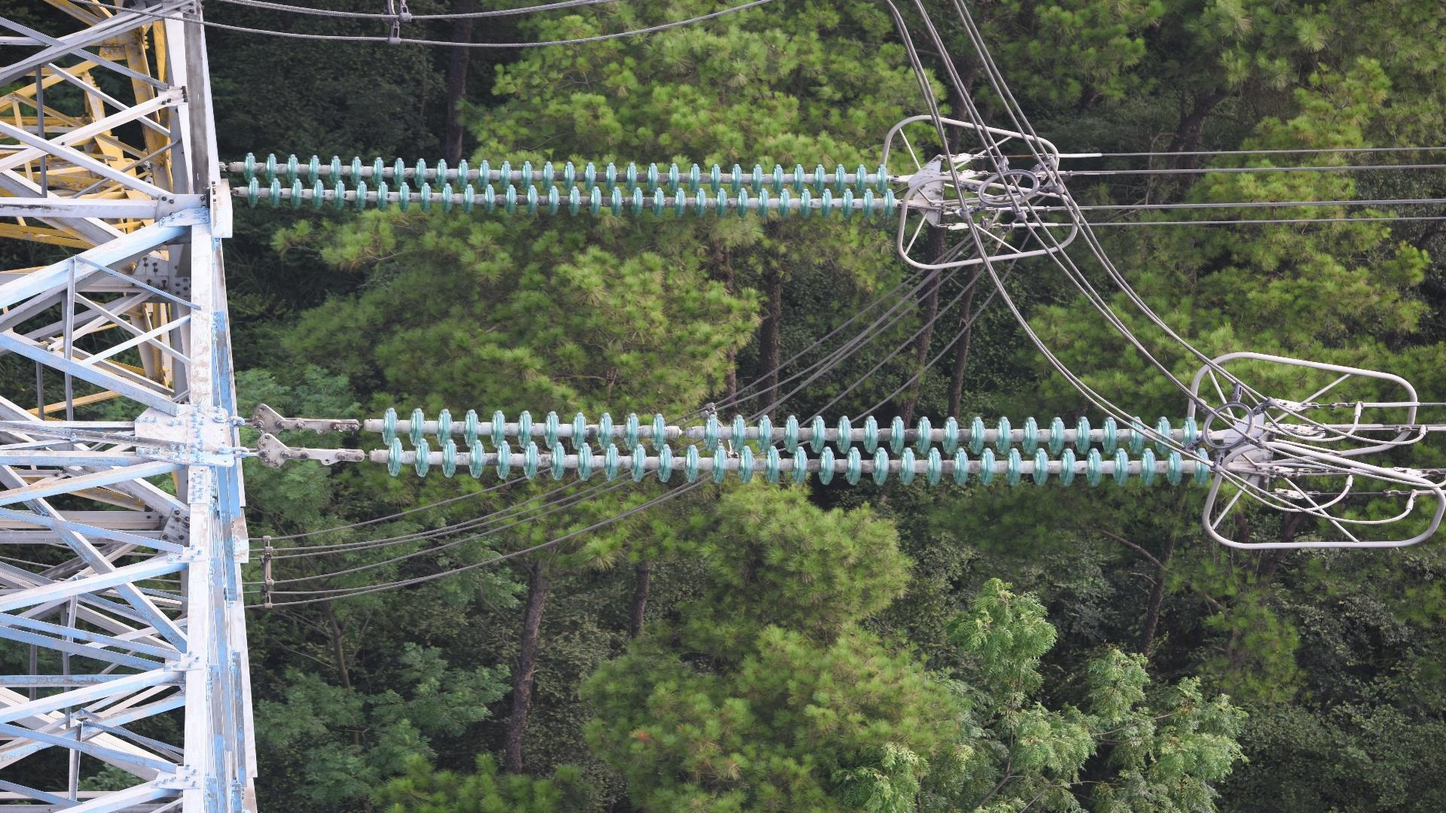insulator: (378, 403, 1215, 495), (239, 148, 901, 224)
